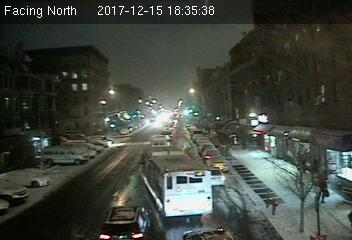bus: (140, 142, 214, 220)
car: (99, 204, 154, 240), (207, 156, 230, 172), (209, 167, 227, 187)
